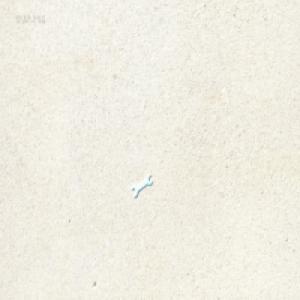Wrench: (132, 173, 153, 199)
